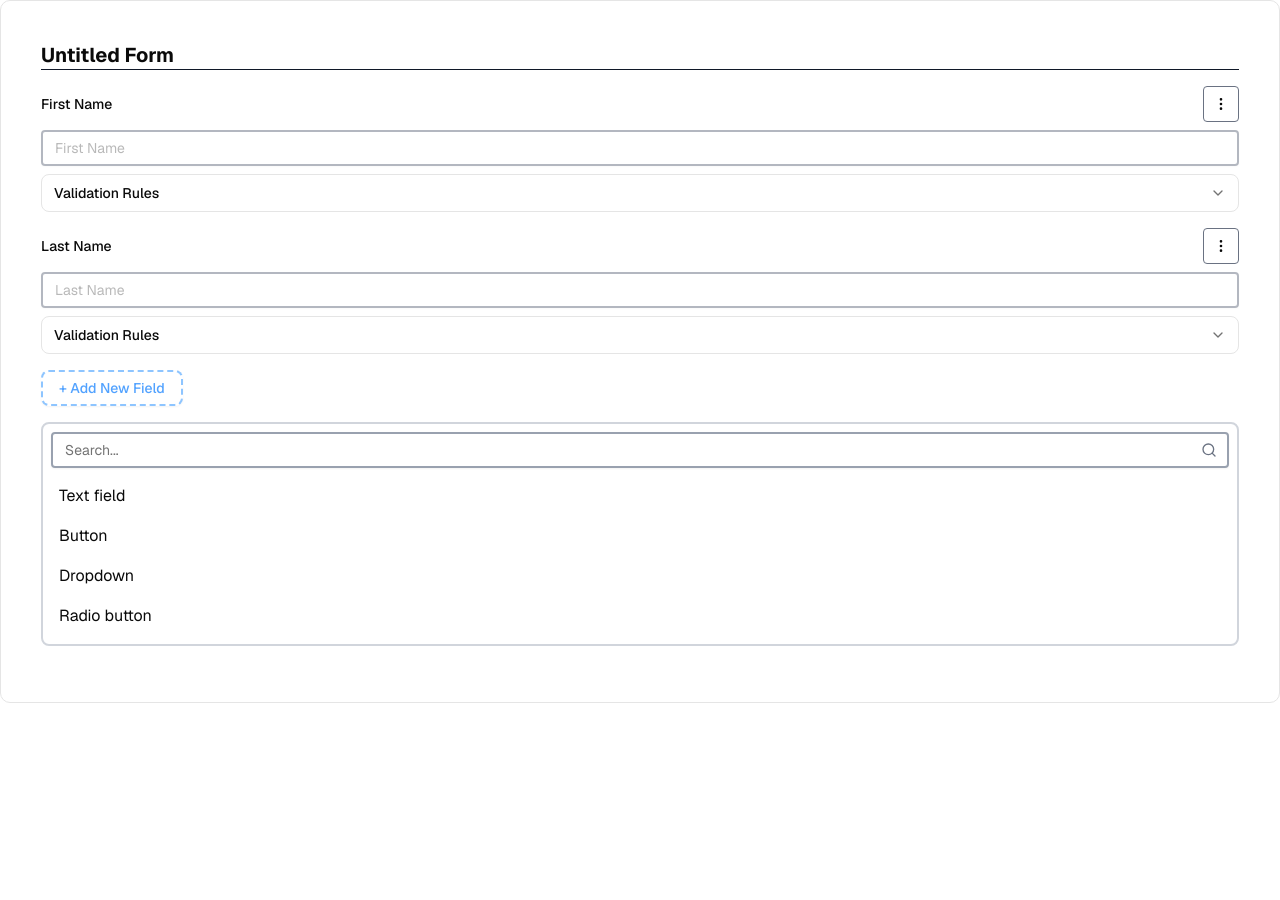
Test: FormBuilder › Search Functionality › should filter field options based on search input
Step 1. Type "radio" into the field with test id "field-search-input" → coordinates (640, 450), box [51, 432, 1229, 468]
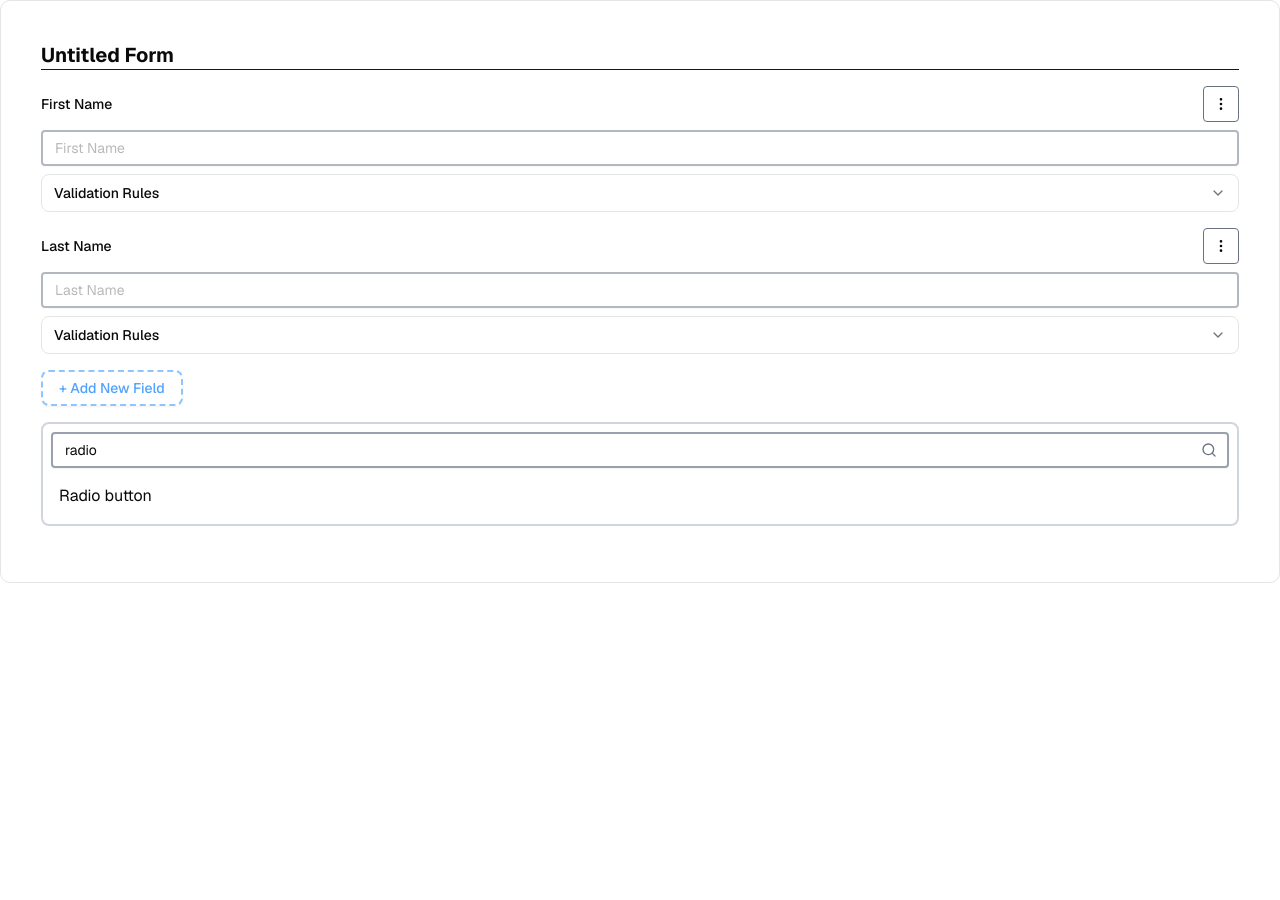
Now the element with test id "search-results" reads "Radio button", box [59, 485, 152, 506]
Now the element with test id "search-results" no longer shows "Text field", box [59, 485, 152, 506]
